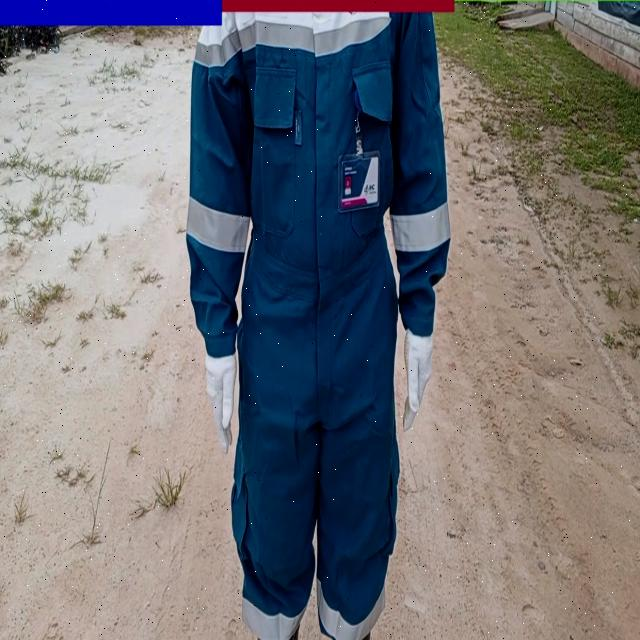Gloves: (400, 333, 433, 433), (205, 358, 238, 456)
Overall Suit: (188, 27, 451, 640)
